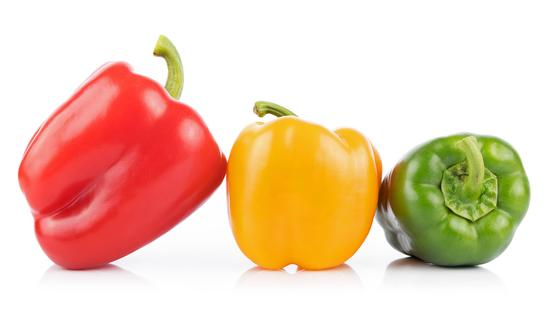pepper: (20, 55, 229, 274)
